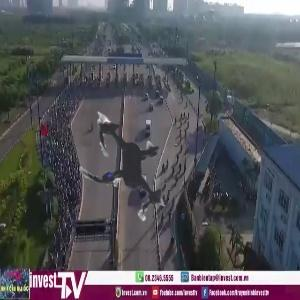drone: (32, 68, 230, 266)
